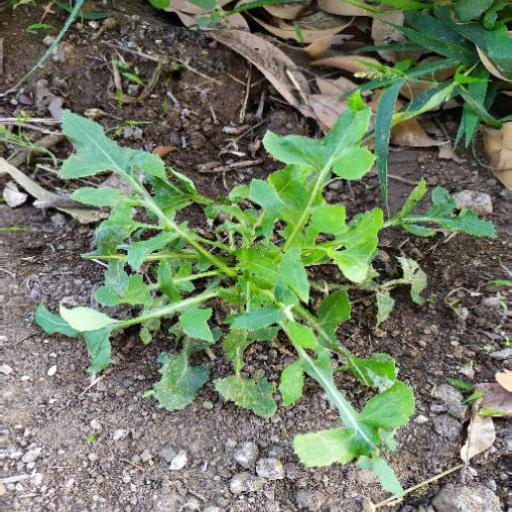weed: (36, 80, 419, 470)
